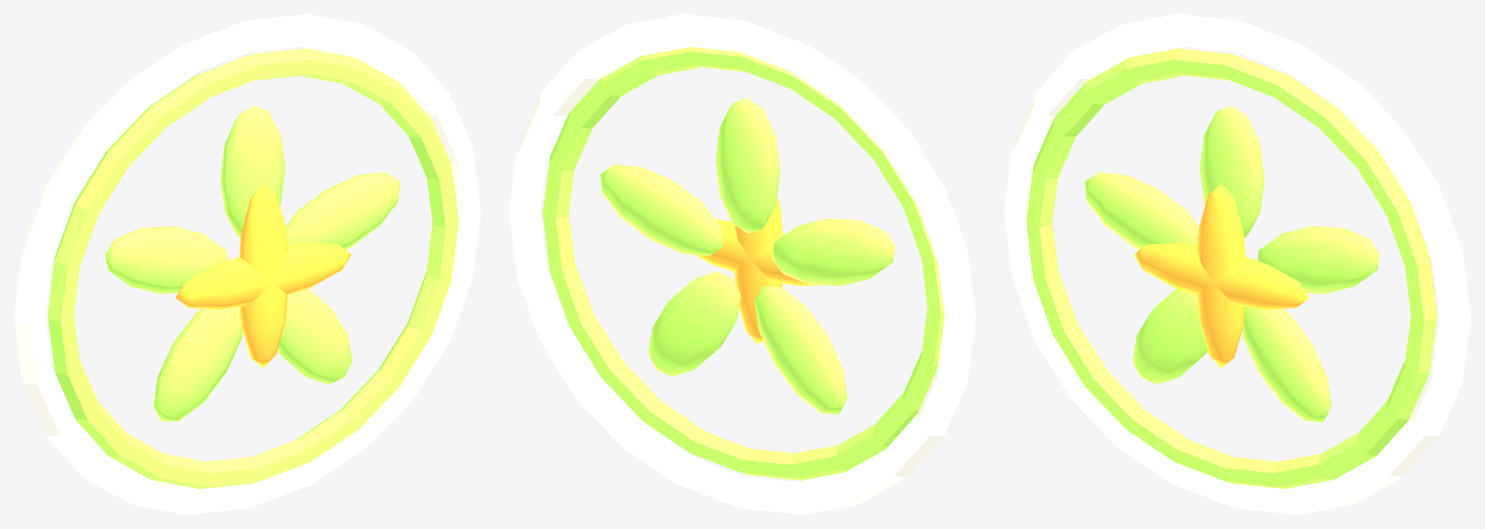
The model's file is combo-marker-sporefire.glb.
The picture shows the model from 3 angles, left to right: view 1: azimuth 30°, elevation 25°; view 2: azimuth 150°, elevation 25°; view 3: azimuth 330°, elevation 25°; orthographic projection.
Parts seen in each view (by area): view 1: combo-marker-sporefire; view 2: combo-marker-sporefire; view 3: combo-marker-sporefire.
Part boxes in pixels (x1,y1,x2,y2): combo-marker-sporefire: (14,14,480,514); combo-marker-sporefire: (509,14,975,514); combo-marker-sporefire: (1004,14,1470,514).
Bounding box in the file's own units: 2.01 × 2.01 × 0.2422.
